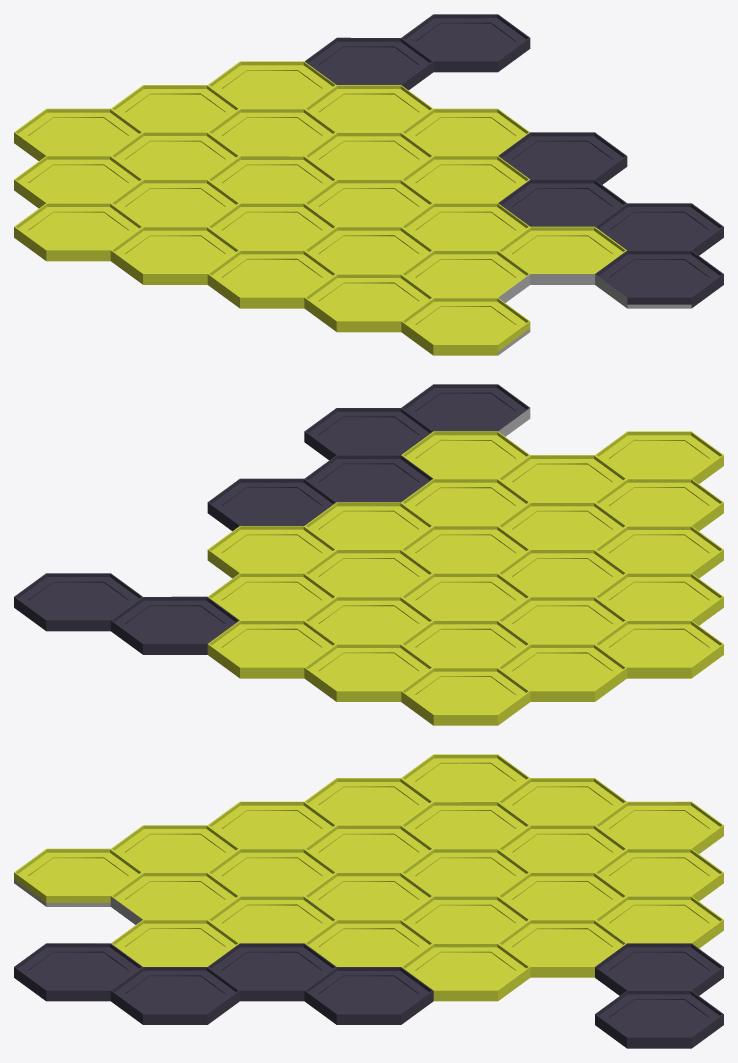
Rendered from MoldInsertStage2_1.fbx.
The picture shows the model from 3 angles, top to bottom: view 1: azimuth 30°, elevation 25°; view 2: azimuth 150°, elevation 25°; view 3: azimuth 270°, elevation 25°; orthographic projection.
Parts seen in each view (by area): view 1: MoldInsertStage2_1; view 2: MoldInsertStage2_1; view 3: MoldInsertStage2_1.
Part boxes in pixels (<box>): MoldInsertStage2_1: <box>14,14,723,355</box>; MoldInsertStage2_1: <box>14,384,723,725</box>; MoldInsertStage2_1: <box>14,754,723,1048</box>.
Bounding box in the file's own units: 1092 × 19.68 × 1156.
